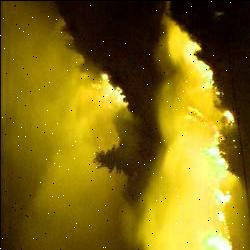fire: (180, 29, 250, 250), (84, 62, 142, 115)
